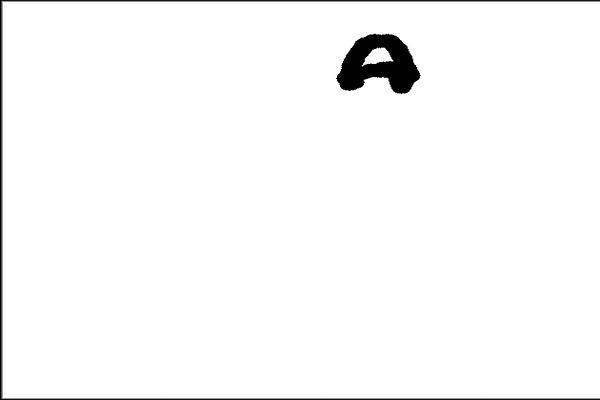A: (325, 23, 421, 115)
